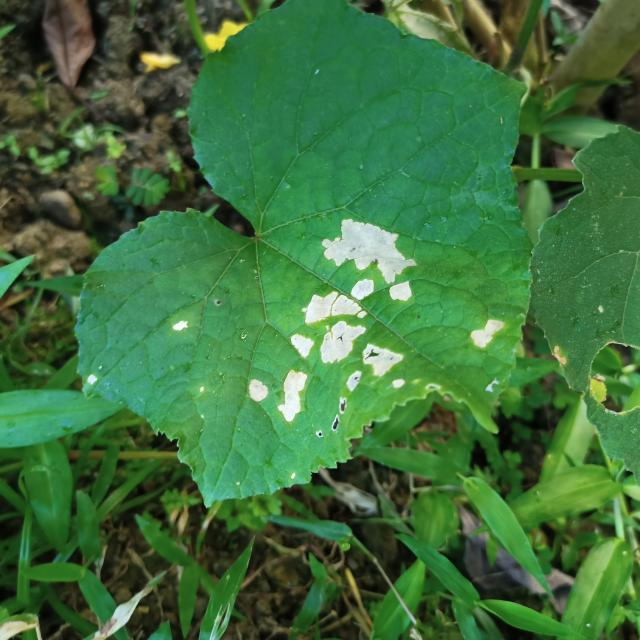disease_cucumber: (245, 216, 424, 429), (459, 309, 510, 369), (164, 308, 193, 342)
